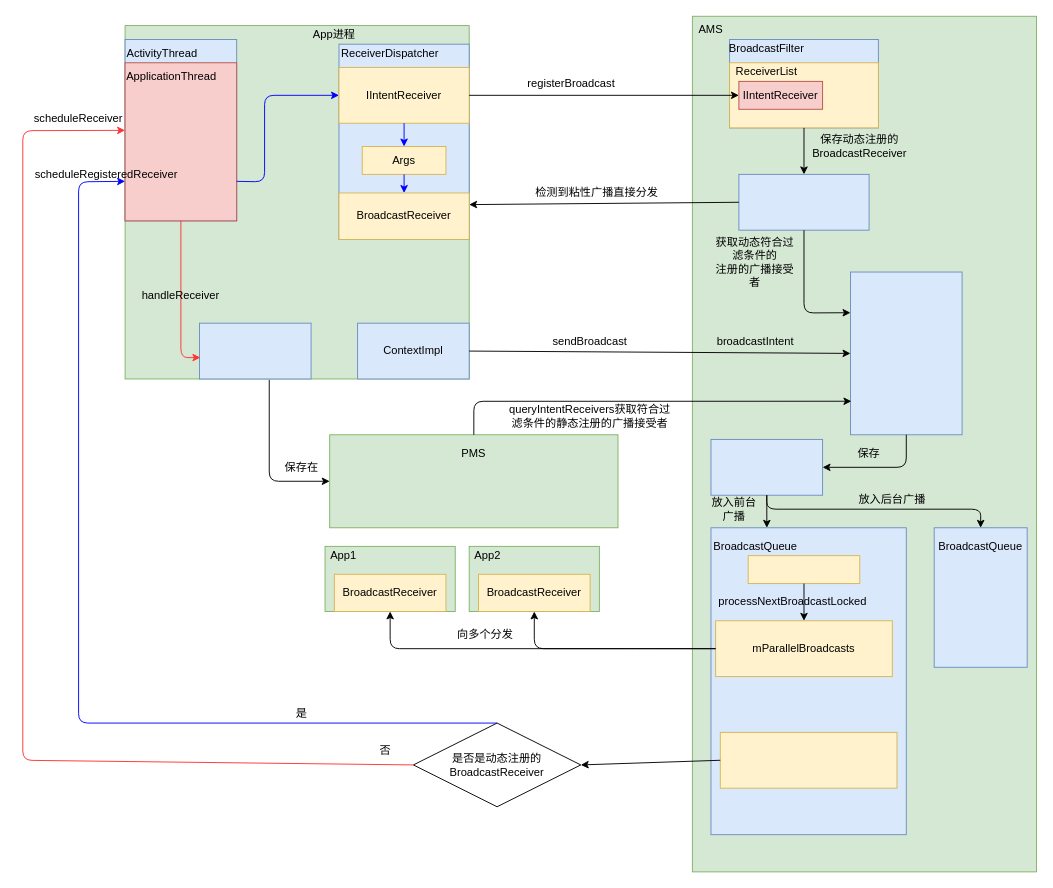
Some shapes in this 1053 by 888 pixel diagram are drawn without their labels. The box of each missing label's shape, as (x1, y1, x2, y2) in pixels:
ActivityIntentResolver: (738, 173, 869, 230)
BroadcastRecord: (710, 438, 823, 495)
Handler: (747, 555, 860, 584)
mOrderedBroadcasts: (719, 731, 897, 788)
receivers广播接受者列表: (850, 271, 962, 435)
静态注册的BroadcastReceiver: (199, 322, 311, 379)
